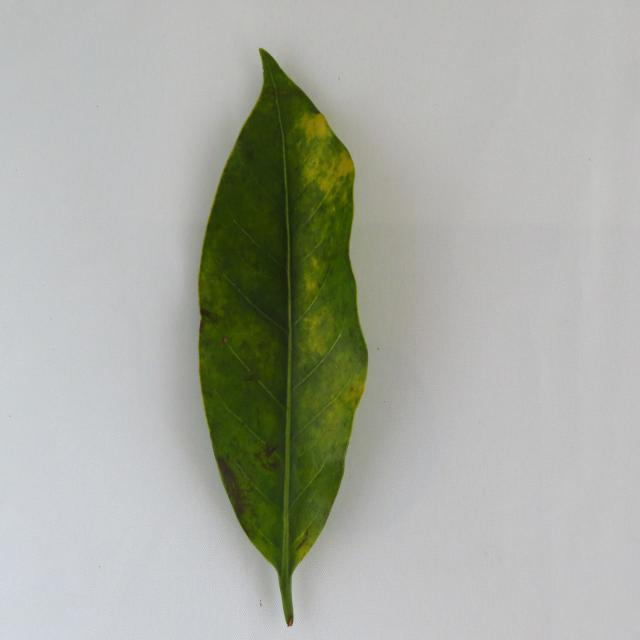DeficienciaNutricional-Manganeso: (199, 50, 368, 625)
